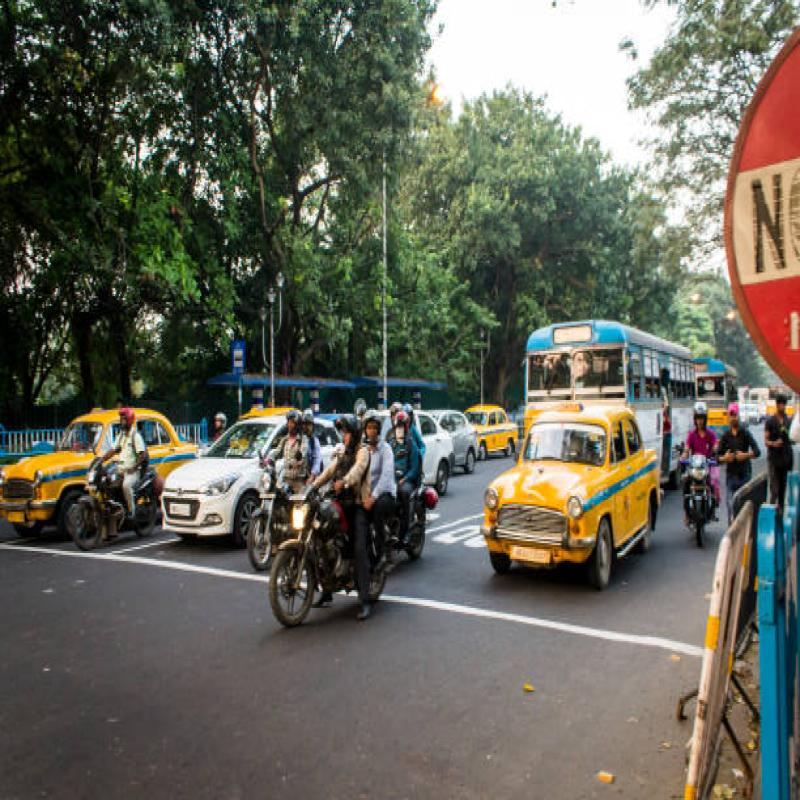bike: (274, 493, 373, 621)
car: (487, 414, 681, 583), (176, 404, 306, 535)
